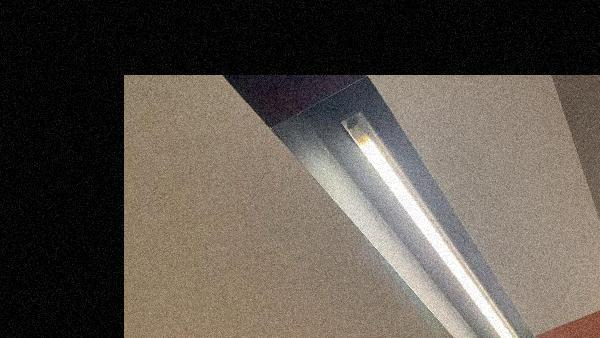light_on: (327, 97, 541, 338)
